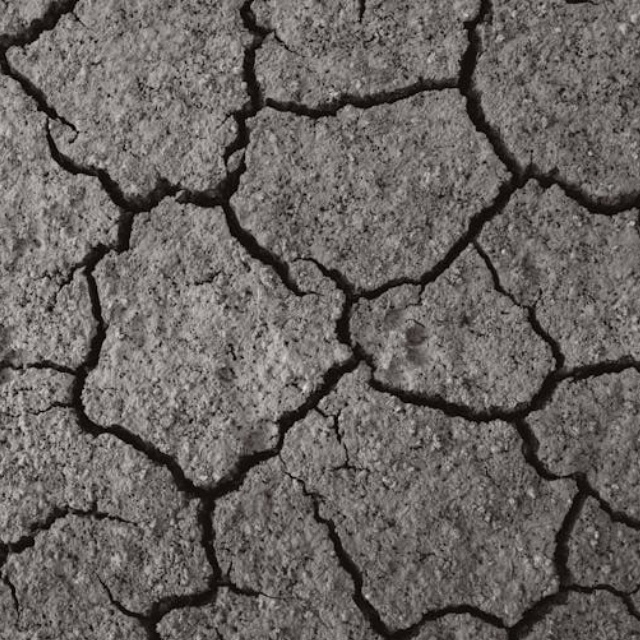细微裂纹: (459, 290, 640, 482)
网状裂隙: (0, 0, 495, 640)
